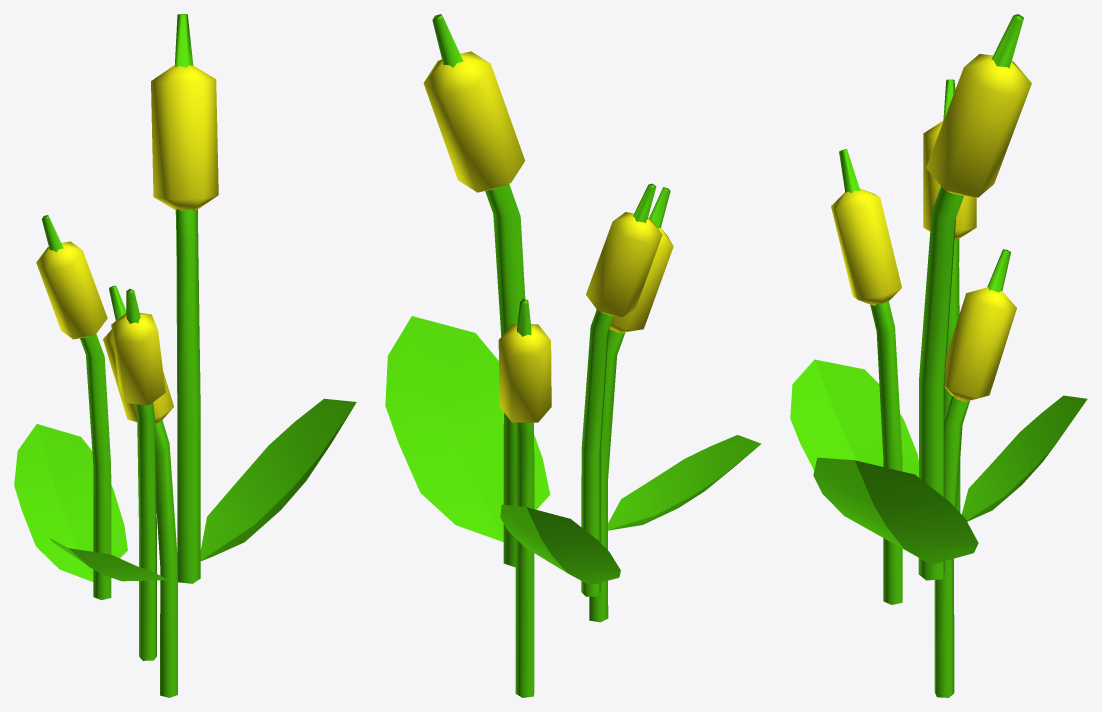
Rendered from Plant2.fbx.
3 renders of one model, left to right at view 1: azimuth 30°, elevation 25°; view 2: azimuth 150°, elevation 25°; view 3: azimuth 270°, elevation 25°, orthographic. The views are drawn at different scales.
Visible parts, largest first — view 1: Hoja, Cylinder.157, Hoja.001, Cylinder.158, Cylinder.161, Cylinder.155, Cylinder.159, Cylinder.156, Cylinder.160, Hoja.002, Cylinder.162; view 2: Hoja.001, Cylinder.158, Cylinder.157, Hoja.002, Cylinder.155, Cylinder.161, Hoja, Cylinder.156, Cylinder.162, Cylinder.159, Cylinder.160; view 3: Hoja.001, Cylinder.158, Cylinder.157, Hoja.002, Cylinder.162, Cylinder.160, Hoja, Cylinder.159, Cylinder.161, Cylinder.156, Cylinder.155.
Part boxes in pixels (<box>): Hoja: <box>14,424,127,581</box>; Cylinder.157: <box>175,14,200,583</box>; Hoja.001: <box>200,398,356,560</box>; Cylinder.158: <box>151,65,218,210</box>; Cylinder.161: <box>109,285,177,697</box>; Cylinder.155: <box>42,215,111,600</box>; Cylinder.159: <box>126,289,156,660</box>; Cylinder.156: <box>36,241,107,339</box>; Cylinder.160: <box>111,313,165,405</box>; Hoja.002: <box>49,537,170,581</box>; Cylinder.162: <box>103,330,173,423</box>; Hoja.001: <box>385,316,550,541</box>; Cylinder.158: <box>423,51,524,192</box>; Cylinder.157: <box>432,14,525,567</box>; Hoja.002: <box>608,435,761,530</box>; Cylinder.155: <box>581,183,656,596</box>; Cylinder.161: <box>515,299,534,697</box>; Hoja: <box>500,504,620,585</box>; Cylinder.156: <box>586,212,662,317</box>; Cylinder.162: <box>498,324,551,422</box>; Cylinder.159: <box>589,187,670,622</box>; Cylinder.160: <box>596,228,673,332</box>; Hoja.001: <box>813,457,978,564</box>; Cylinder.158: <box>926,54,1031,197</box>; Cylinder.157: <box>918,14,1023,580</box>; Hoja.002: <box>790,359,918,477</box>; Cylinder.162: <box>944,287,1016,401</box>; Cylinder.160: <box>831,188,901,305</box>; Hoja: <box>961,395,1087,521</box>; Cylinder.159: <box>839,149,902,604</box>; Cylinder.161: <box>934,249,1010,697</box>; Cylinder.156: <box>923,121,976,239</box>; Cylinder.155: <box>943,79,960,512</box>.
Size of the model in its own units: 255 by 511 by 196.
